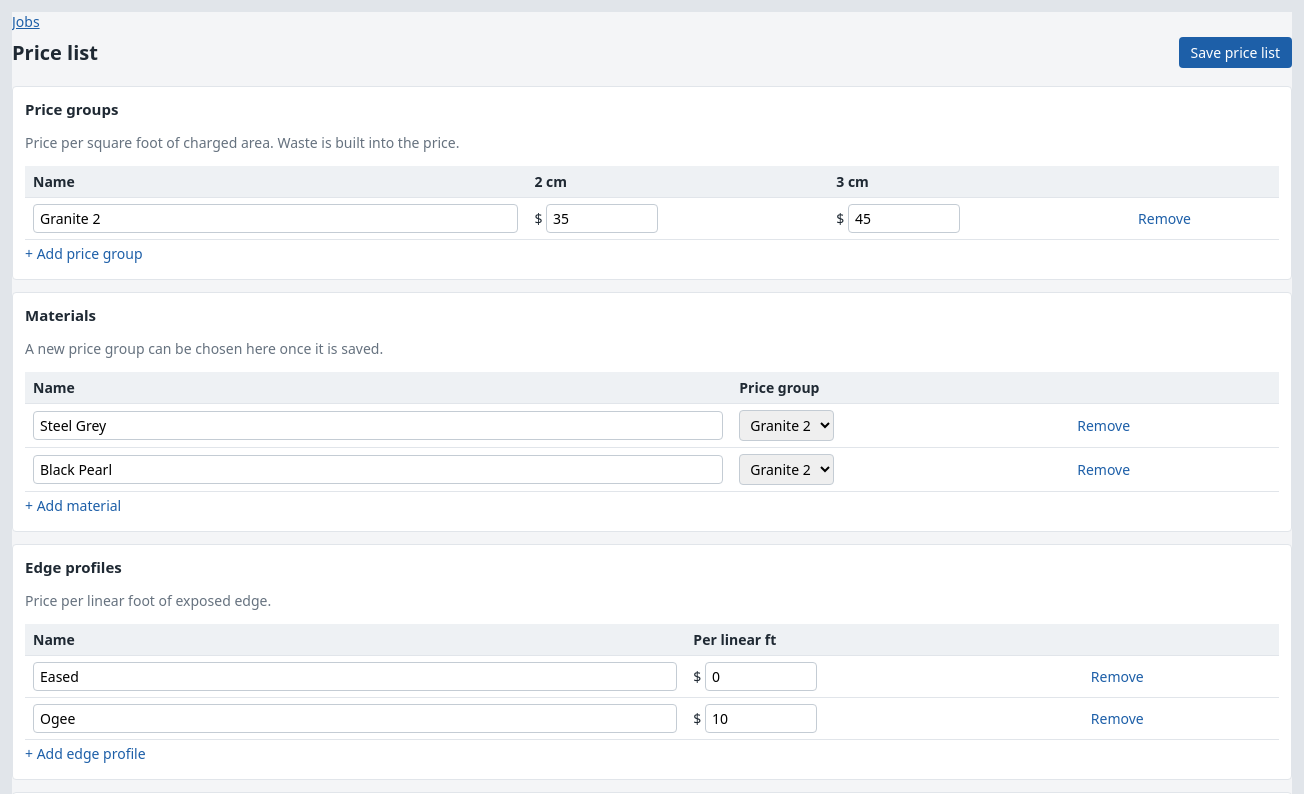
Scenario: the price list page › says why loading or saving failed
Later steps or results of the test are not shown.
Replace the text in the number field named "Eased price per linear ft" with "12" at {"x": 761, "y": 676}, box x1=705 y1=662 x2=817 y2=691
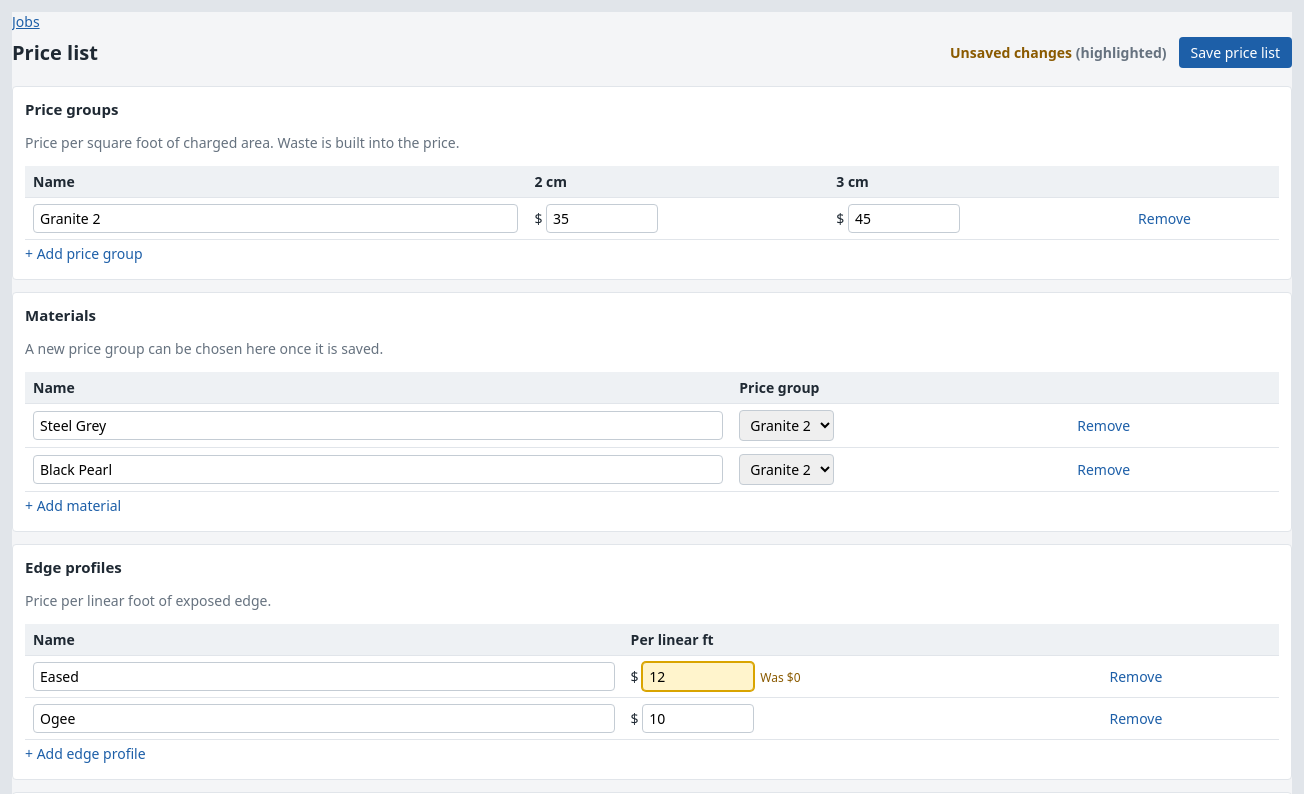
Click the button "Save price list" at {"x": 1235, "y": 52}, box x1=1179 y1=37 x2=1292 y2=68
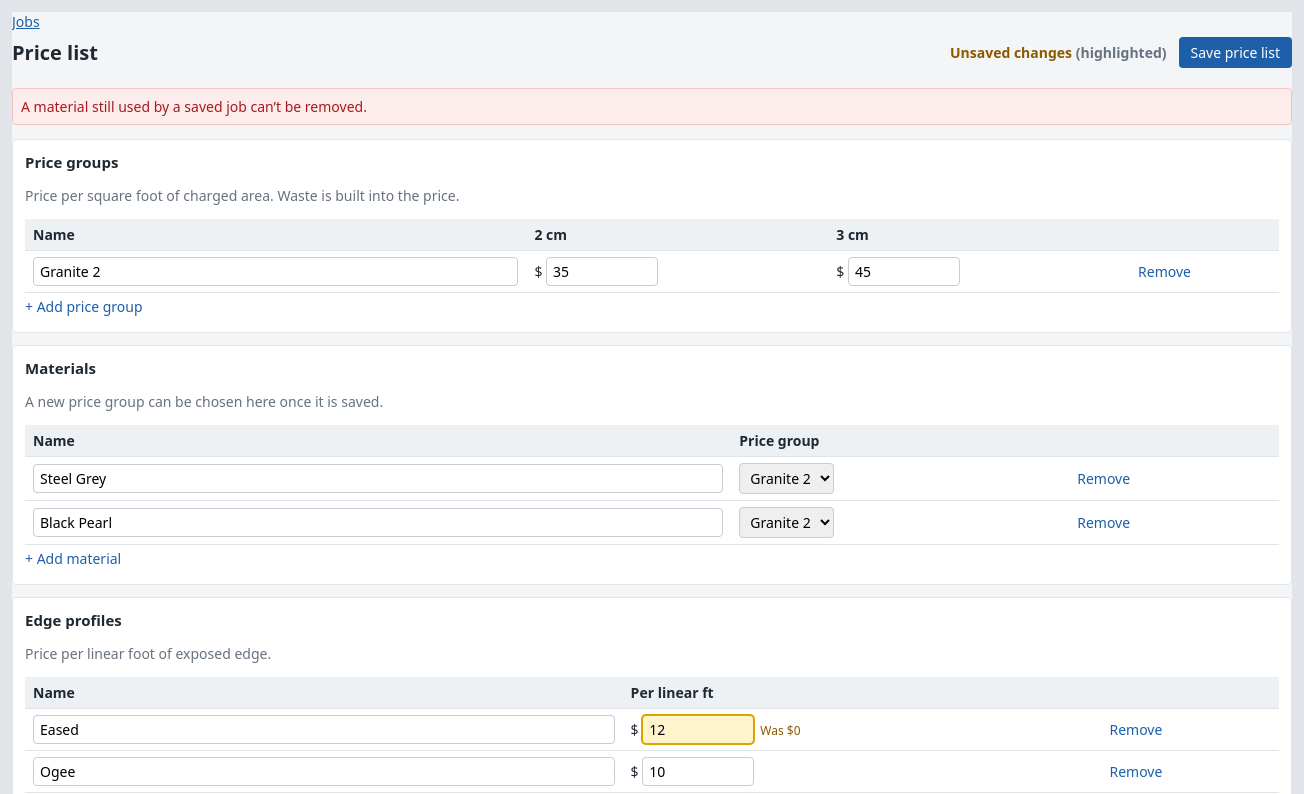
Result: the text "A material still used by a saved job can’t be removed." is shown at x1=12 y1=88 x2=1292 y2=125
